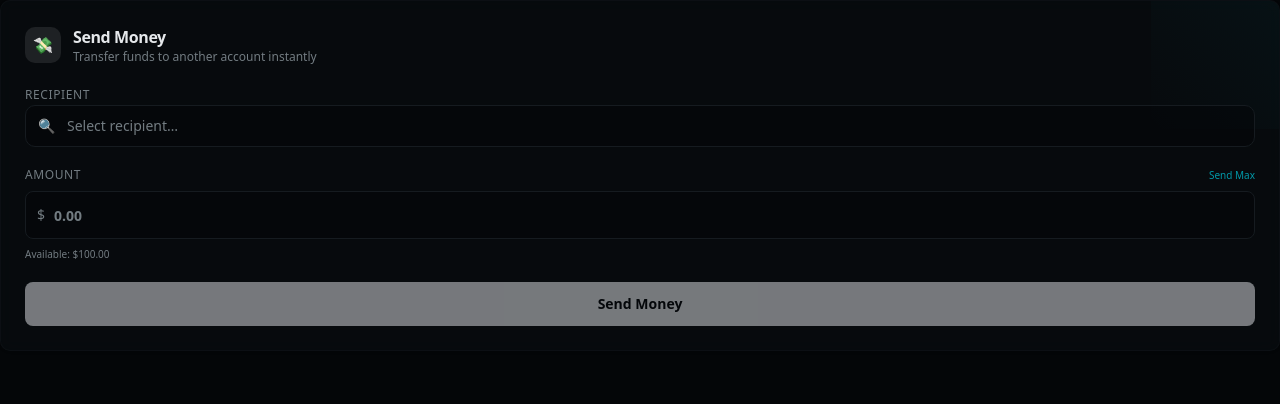
Test: TransferForm › shows validation error for zero amount
Type "0" into the number field with placeholder "0.00" at [640, 215], box [25,191,1255,239]
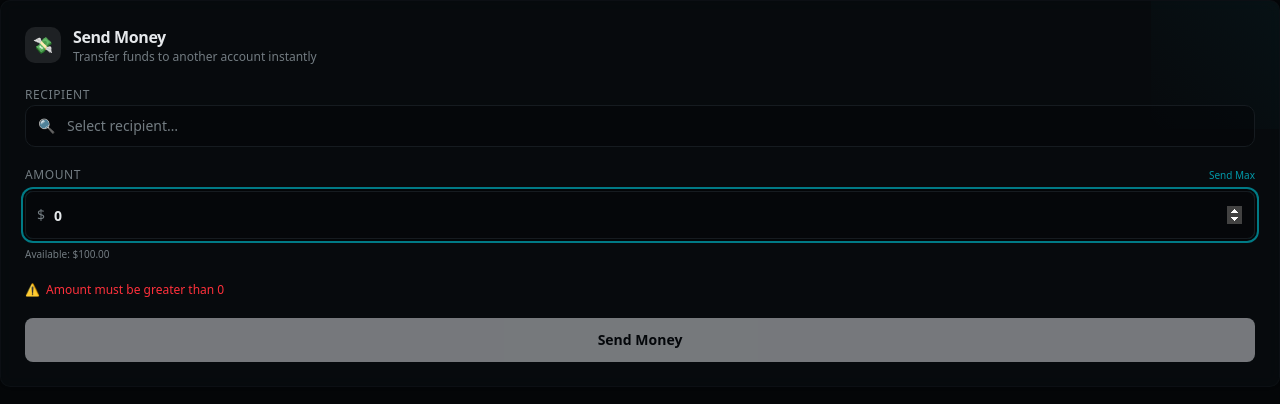
expect the text "Amount must be greater than 0" is shown: met, box [46,281,224,298]
